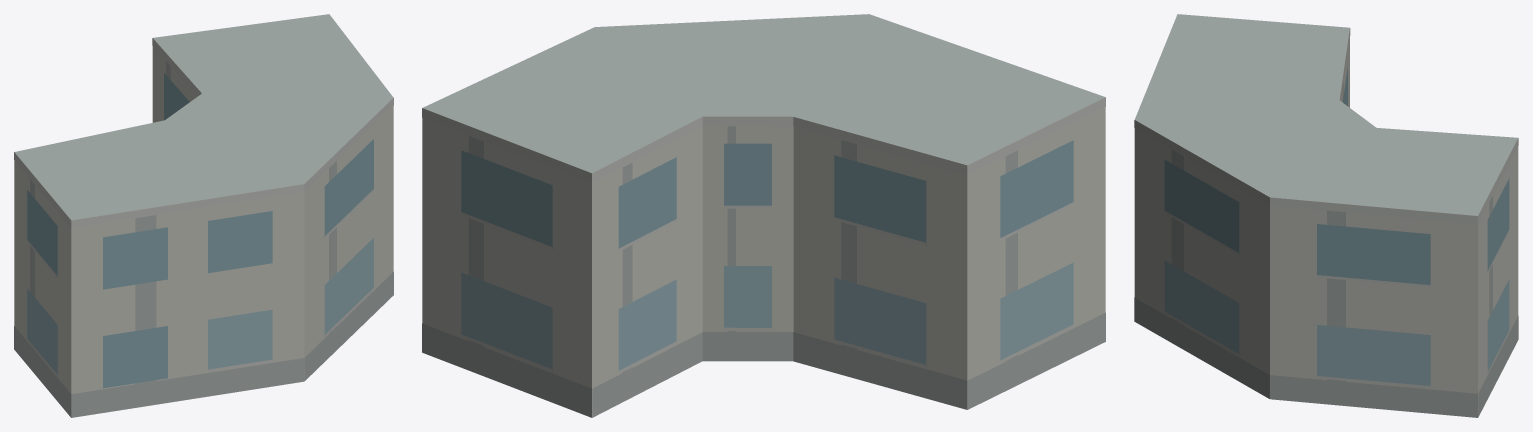
Rendered from survey-upis-32790573.glb.
The picture shows the model from 3 angles, left to right: view 1: azimuth 30°, elevation 25°; view 2: azimuth 150°, elevation 25°; view 3: azimuth 270°, elevation 25°; orthographic projection. The views are drawn at different scales.
Parts seen in each view (by area): view 1: survey-upis-32790573.tmp; view 2: survey-upis-32790573.tmp; view 3: survey-upis-32790573.tmp.
Part boxes in pixels (x1,y1,x2,y2): survey-upis-32790573.tmp: (14,14,393,417); survey-upis-32790573.tmp: (422,14,1105,417); survey-upis-32790573.tmp: (1134,14,1518,417).
Size of the model in its own units: 13.11 by 6.1 by 10.52.
